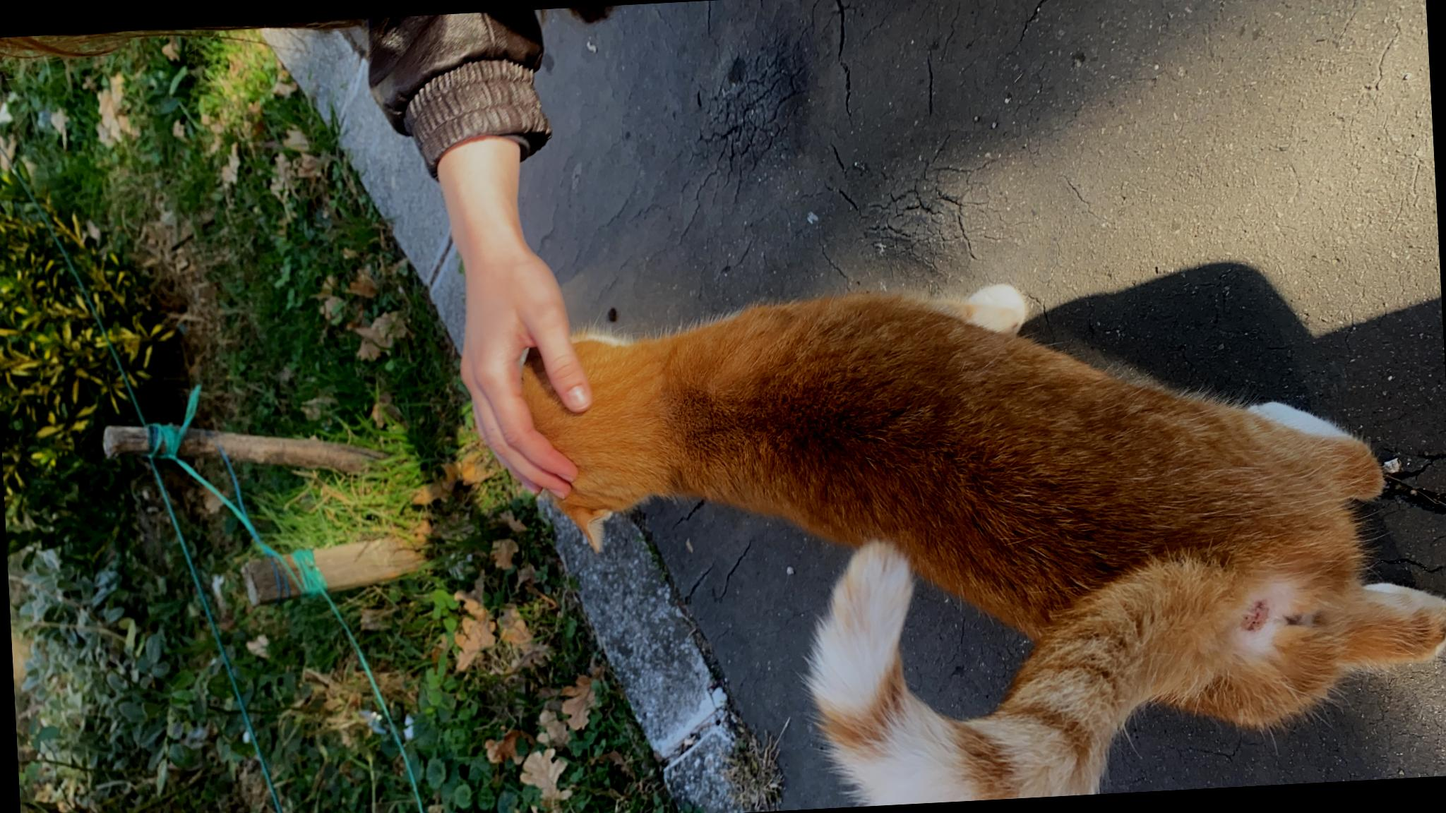macka: (8, 534, 537, 813)
